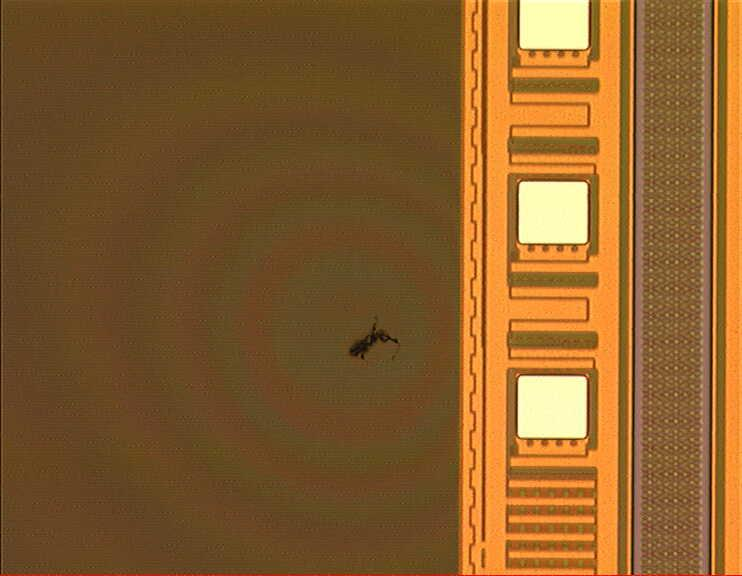PIQ PARTICLE: (349, 315, 403, 366)
